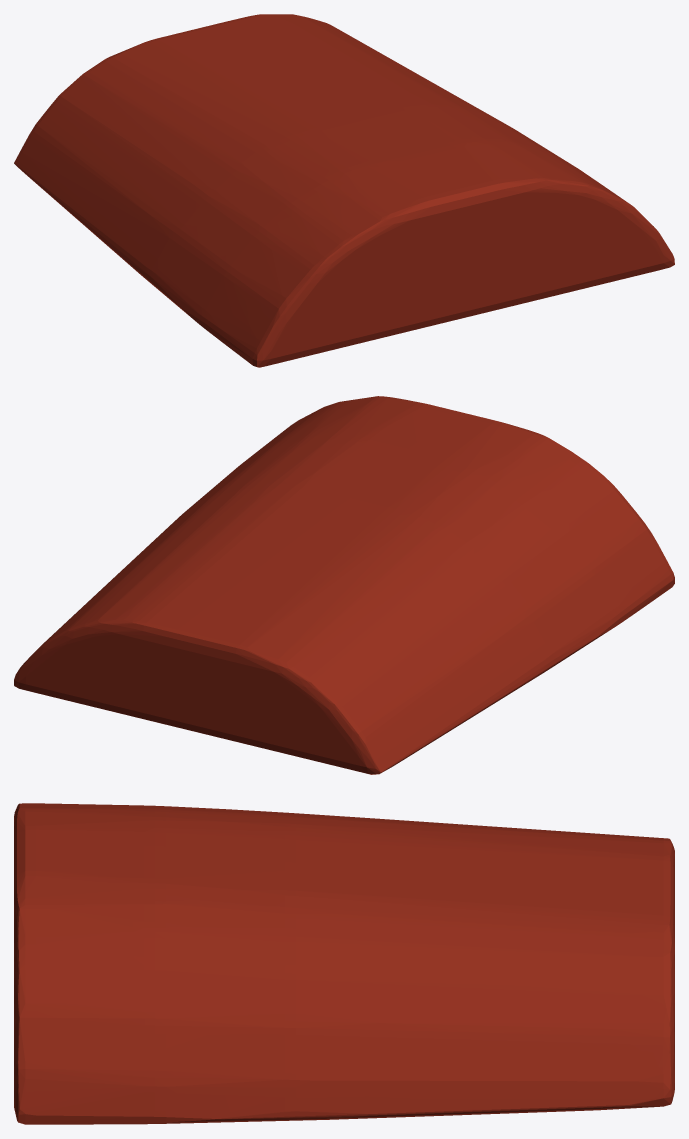
File: right_shoulder_yaw_link_part_15.obj
3 renders of one model, top to bottom at view 1: azimuth 30°, elevation 25°; view 2: azimuth 150°, elevation 25°; view 3: azimuth 270°, elevation 25°, orthographic. The views are drawn at different scales.
Size of the model in its own units: 0.056 by 0.0161 by 0.0627.
